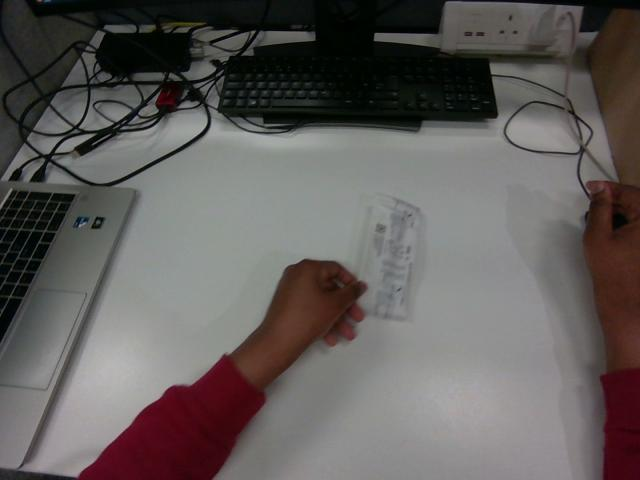syringe: (358, 195, 419, 319)
